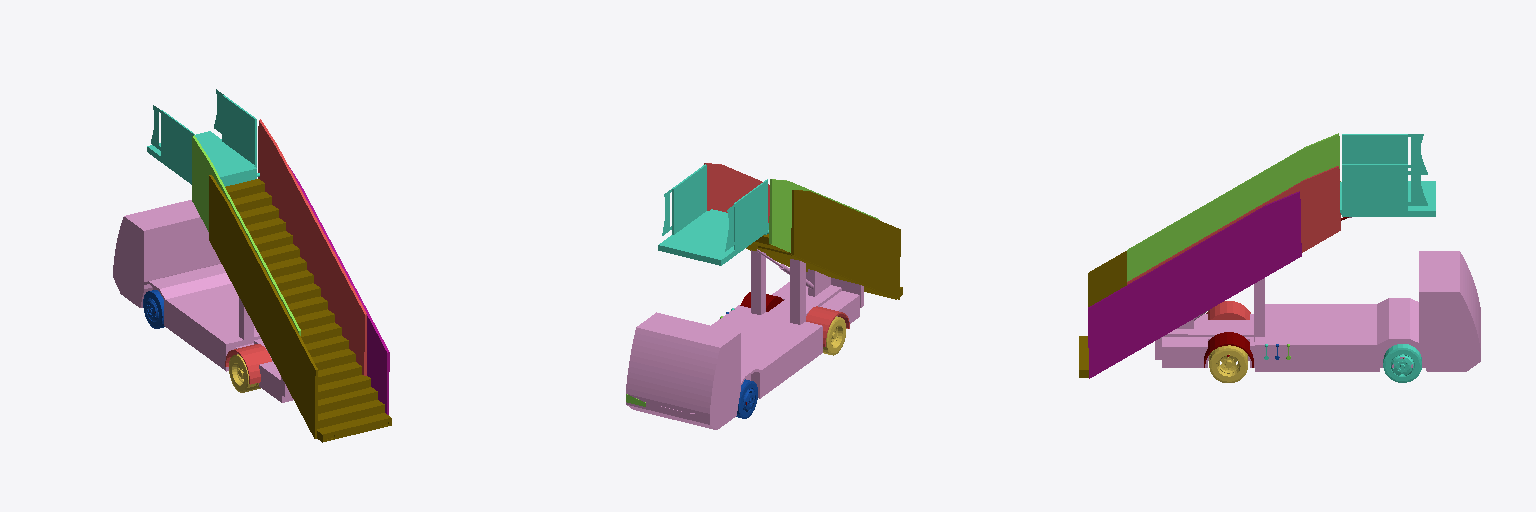
The model's file is car.obj.
3 views of the same model, side by side, from view 1: azimuth 30°, elevation 25°; view 2: azimuth 150°, elevation 25°; view 3: azimuth 270°, elevation 25° (orthographic).
Parts seen in each view (by area): view 1: Layer0_001, ske622F_1_001, Group_008, Group_007, Group_003, ske622F_001, Group_006, Group_009, paralamas_003, roda_diant_1_003, roda_tras_1_001; view 2: Layer0_001, Group_008, Group_003, Group_007, Group_006, ske622F_001, paralamas_003, roda_diant_1_003, roda_tras_1_001; view 3: Layer0_001, Group_009, Group_003, Group_006, Group_007, Group_008, roda_diant_1_001, roda_tras_1_003, paralamas_001, paralamas_003.
Part boxes in pixels (bbox=[...]): Layer0_001: bbox=[113, 200, 293, 402]; ske622F_1_001: bbox=[225, 179, 368, 399]; Group_008: bbox=[209, 175, 317, 438]; Group_007: bbox=[258, 119, 366, 375]; Group_003: bbox=[147, 89, 259, 186]; ske622F_001: bbox=[317, 376, 391, 442]; Group_006: bbox=[192, 135, 300, 335]; Group_009: bbox=[288, 165, 389, 414]; paralamas_003: bbox=[225, 344, 271, 384]; roda_diant_1_003: bbox=[143, 290, 164, 328]; roda_tras_1_001: bbox=[229, 354, 260, 392]; Layer0_001: bbox=[626, 250, 863, 429]; Group_008: bbox=[791, 190, 900, 299]; Group_003: bbox=[658, 164, 768, 265]; Group_007: bbox=[704, 163, 769, 222]; Group_006: bbox=[769, 179, 878, 252]; ske622F_001: bbox=[750, 246, 902, 299]; paralamas_003: bbox=[806, 306, 849, 346]; roda_diant_1_003: bbox=[736, 379, 757, 418]; roda_tras_1_001: bbox=[823, 316, 846, 355]; Layer0_001: bbox=[1155, 217, 1480, 371]; Group_009: bbox=[1088, 191, 1301, 378]; Group_003: bbox=[1340, 134, 1435, 216]; Group_006: bbox=[1127, 133, 1340, 281]; Group_007: bbox=[1127, 166, 1340, 284]; Group_008: bbox=[1088, 251, 1126, 306]; roda_diant_1_001: bbox=[1383, 344, 1421, 382]; roda_tras_1_003: bbox=[1209, 345, 1247, 382]; paralamas_001: bbox=[1204, 332, 1253, 367]; paralamas_003: bbox=[1206, 301, 1250, 319].
Size of the model in its own units: 83.04 by 186 by 319.